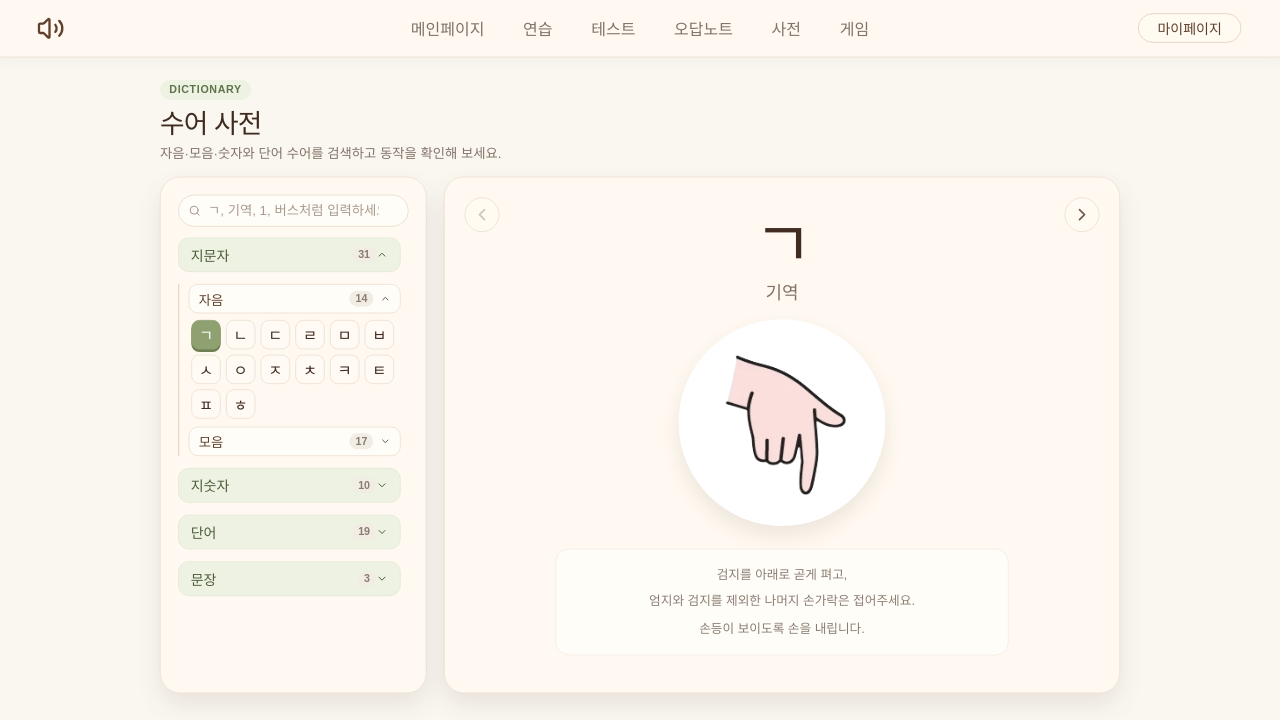
Test: DictionaryPage 검색 › 숫자는 부분 일치로 검색된다
Type "1" into the search field named "지문자 검색". click: x=293, y=211
box: [178,195,409,227]
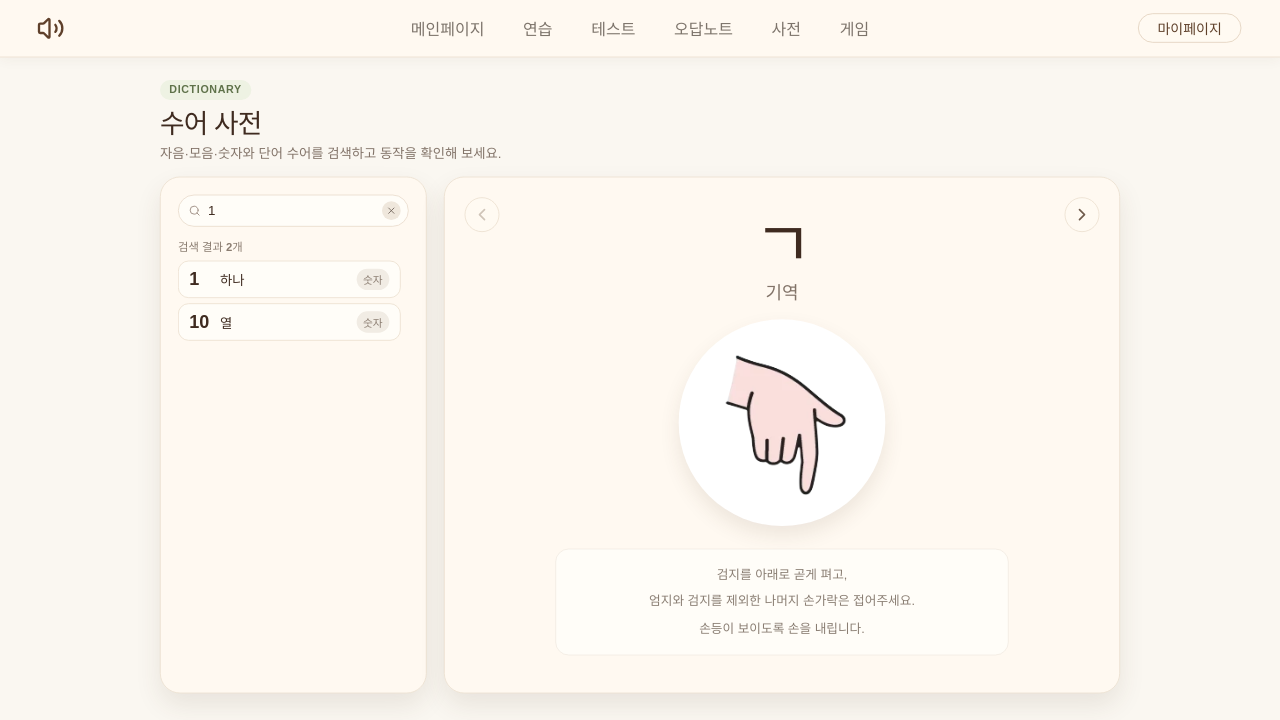
Expected: the text "검색 결과 2개" is shown, [178,241,243,253]
